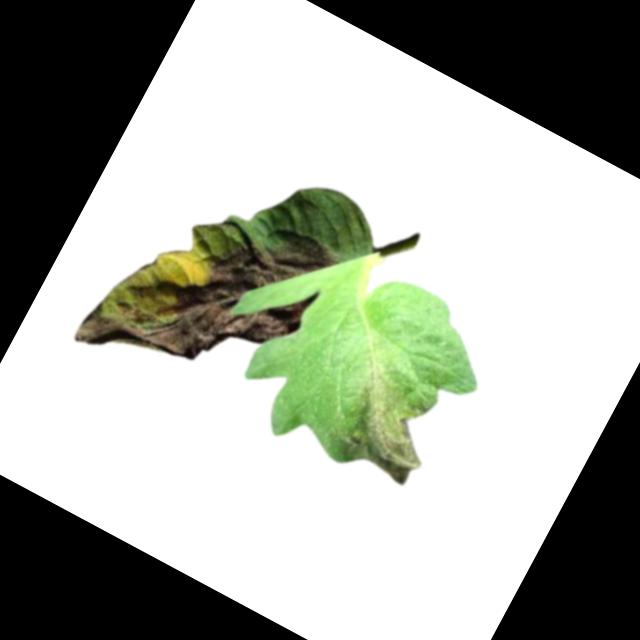Late_blight: (71, 160, 340, 432), (325, 362, 456, 494)
